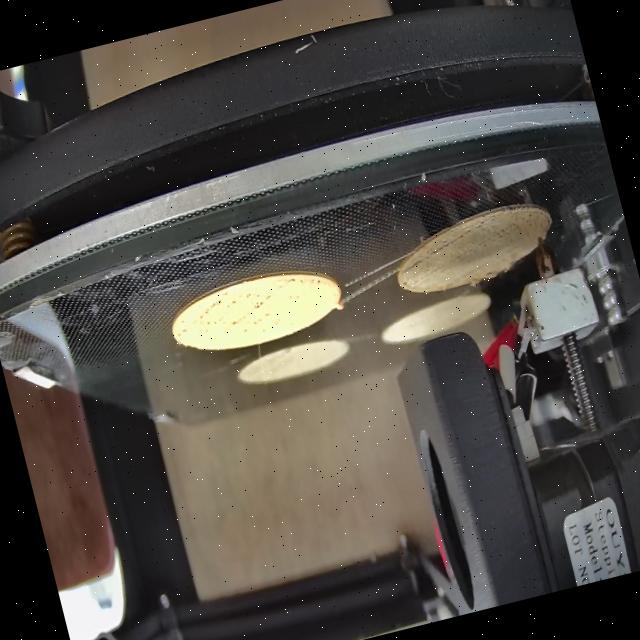under_extrusion: (388, 195, 552, 273), (171, 281, 275, 350), (273, 265, 326, 304)
